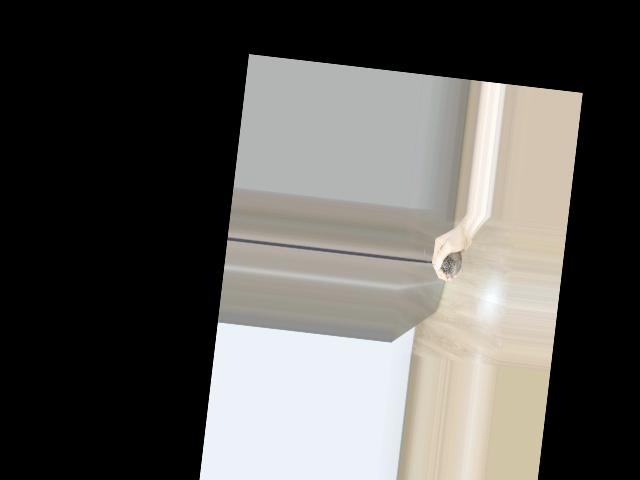beet: (421, 247, 463, 279)
